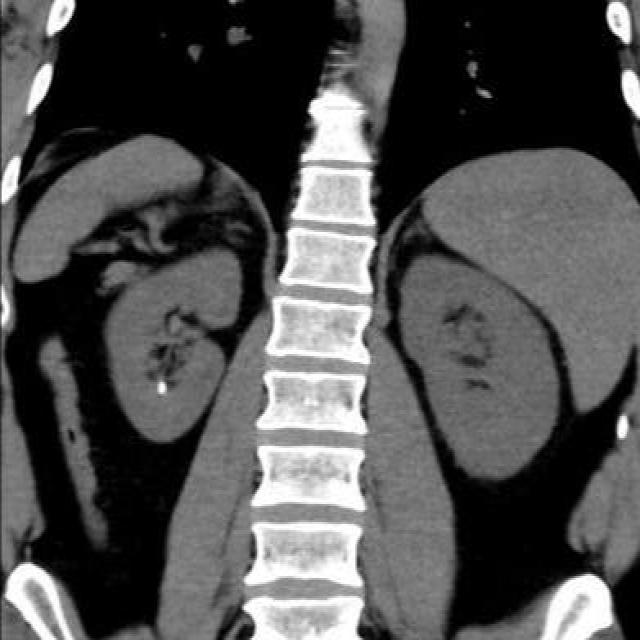Tas_Var: (151, 378, 170, 398)
